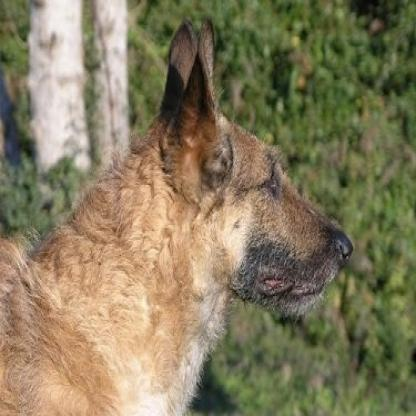Belgian Laekenois: (31, 14, 354, 397)
